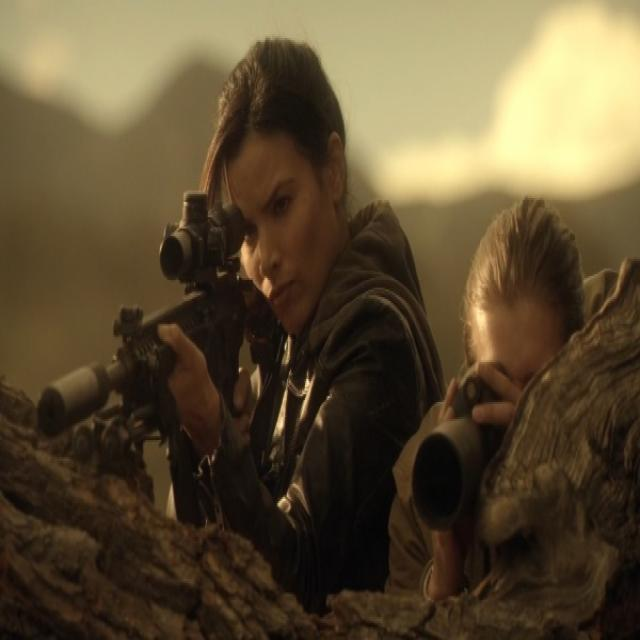rifle: (34, 189, 251, 483)
